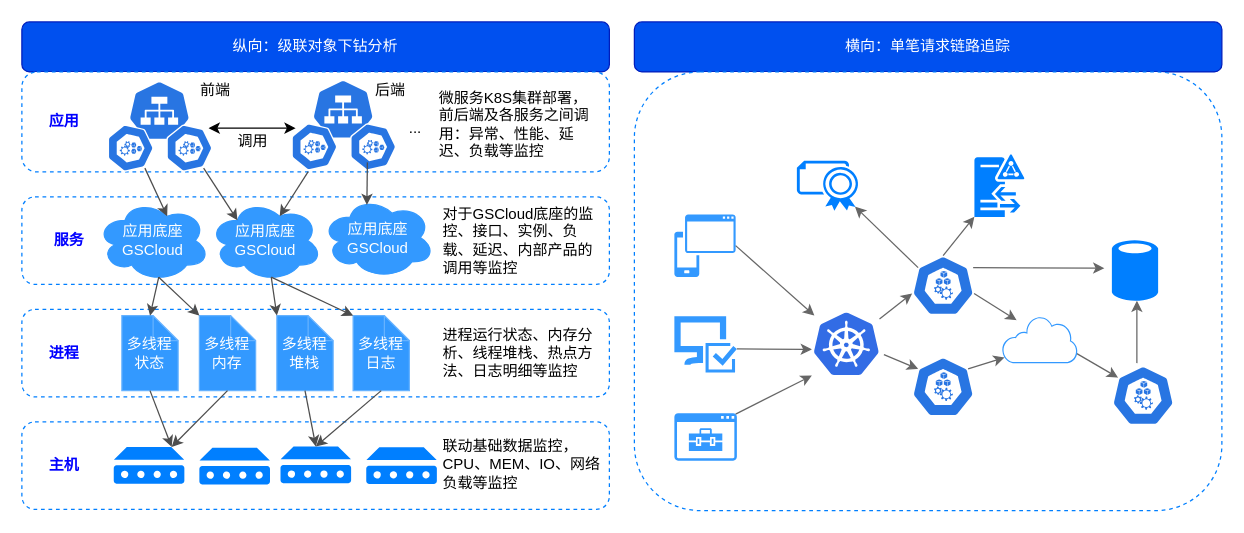
The diagram is 1244 pixels wide and 533 high, and some of its shapes have lost their labels. The centre of each missing label's shape, as x and y in pixels:
司库衔接: point (999, 185)
银企直联: point (827, 185)
